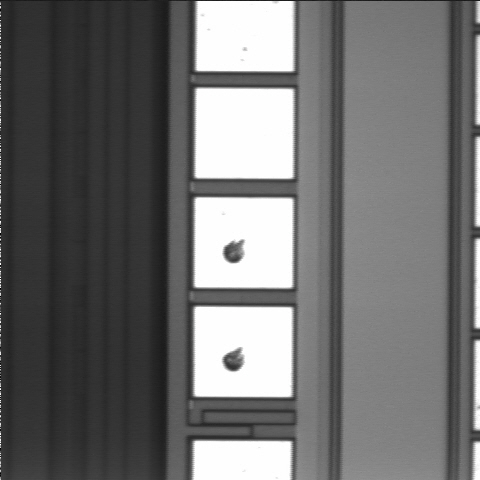pad: (195, 88, 293, 179), (195, 197, 293, 288), (194, 307, 292, 397)
